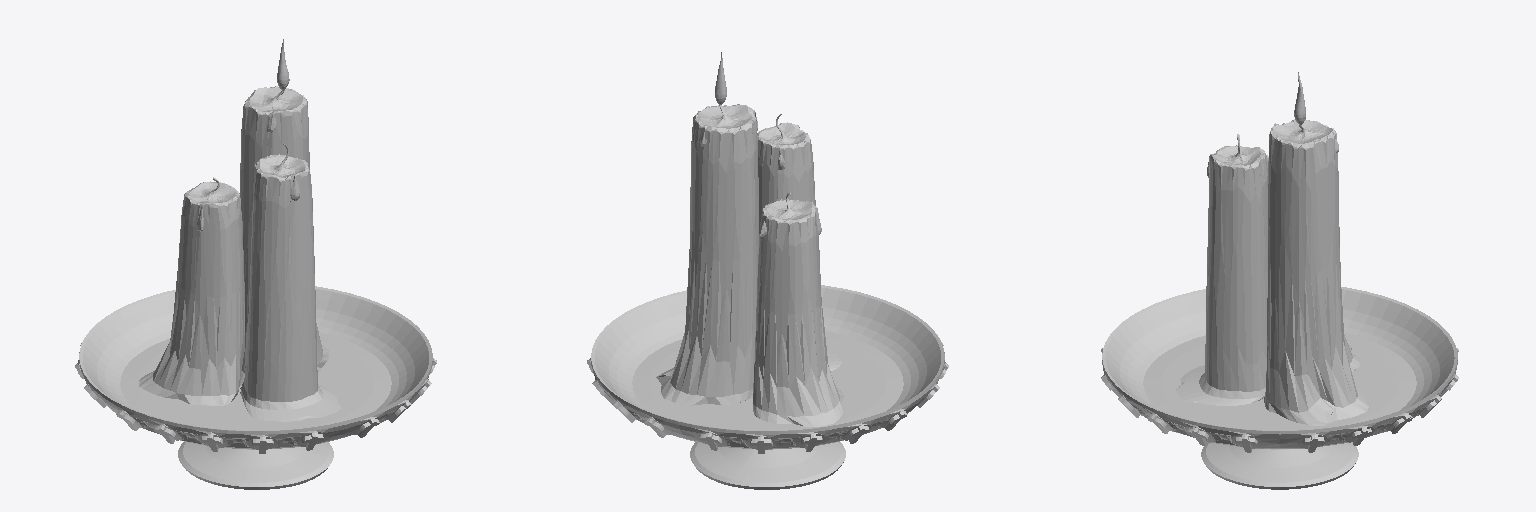
Rendered from candle.obj.
3 views of the same model, side by side, from view 1: azimuth 30°, elevation 25°; view 2: azimuth 150°, elevation 25°; view 3: azimuth 270°, elevation 25° (orthographic).
Visible parts, largest first — view 1: candles, candlestick; view 2: candles, candlestick; view 3: candles, candlestick.
Part boxes in pixels (x1,y1,x2,y2): candles: (139, 86, 340, 421); candlestick: (75, 286, 436, 489); candles: (656, 104, 844, 426); candlestick: (587, 285, 948, 489); candles: (1176, 119, 1368, 425); candlestick: (1101, 287, 1458, 489).
Size of the model in its own units: 91.37 by 114 by 91.97.